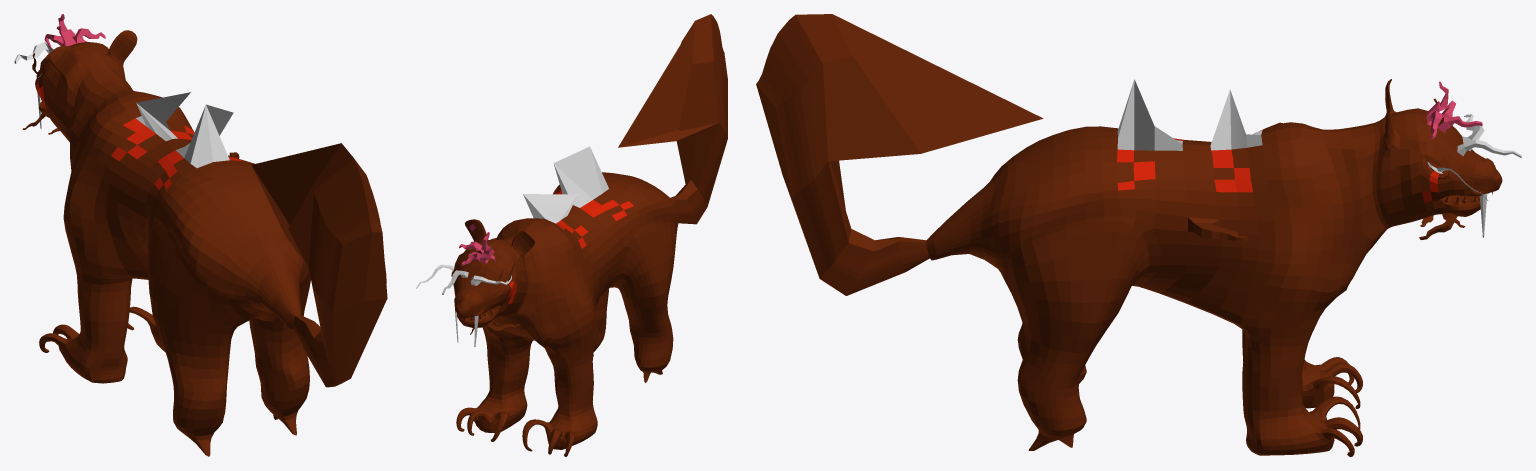
Rendered from bear3.fbx.
3 renders of one model, left to right at view 1: azimuth 30°, elevation 25°; view 2: azimuth 150°, elevation 25°; view 3: azimuth 270°, elevation 25°, orthographic. The views are drawn at different scales.
Visible parts, largest first — view 1: Polygon_3; view 2: Polygon_3; view 3: Polygon_3.
Boxes of the visible parts, x1,y1,x2,y2 form: Polygon_3: (14, 14, 387, 456); Polygon_3: (416, 14, 727, 456); Polygon_3: (756, 14, 1521, 456).
Size of the model in its own units: 4822 by 11191 by 18750.
